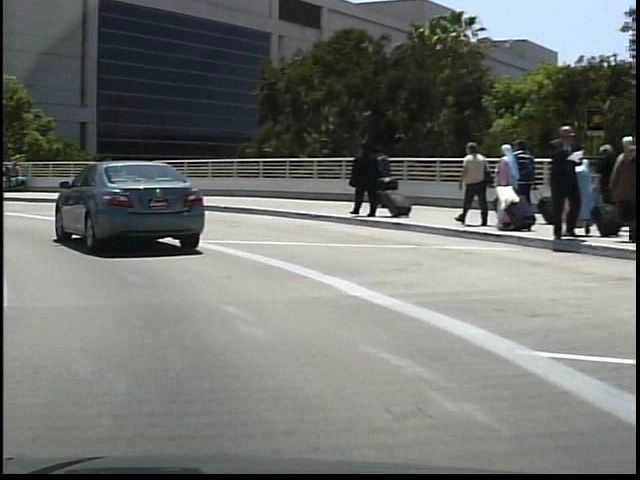person: (539, 121, 581, 242), (449, 137, 489, 228), (342, 140, 379, 219), (370, 147, 391, 210)
